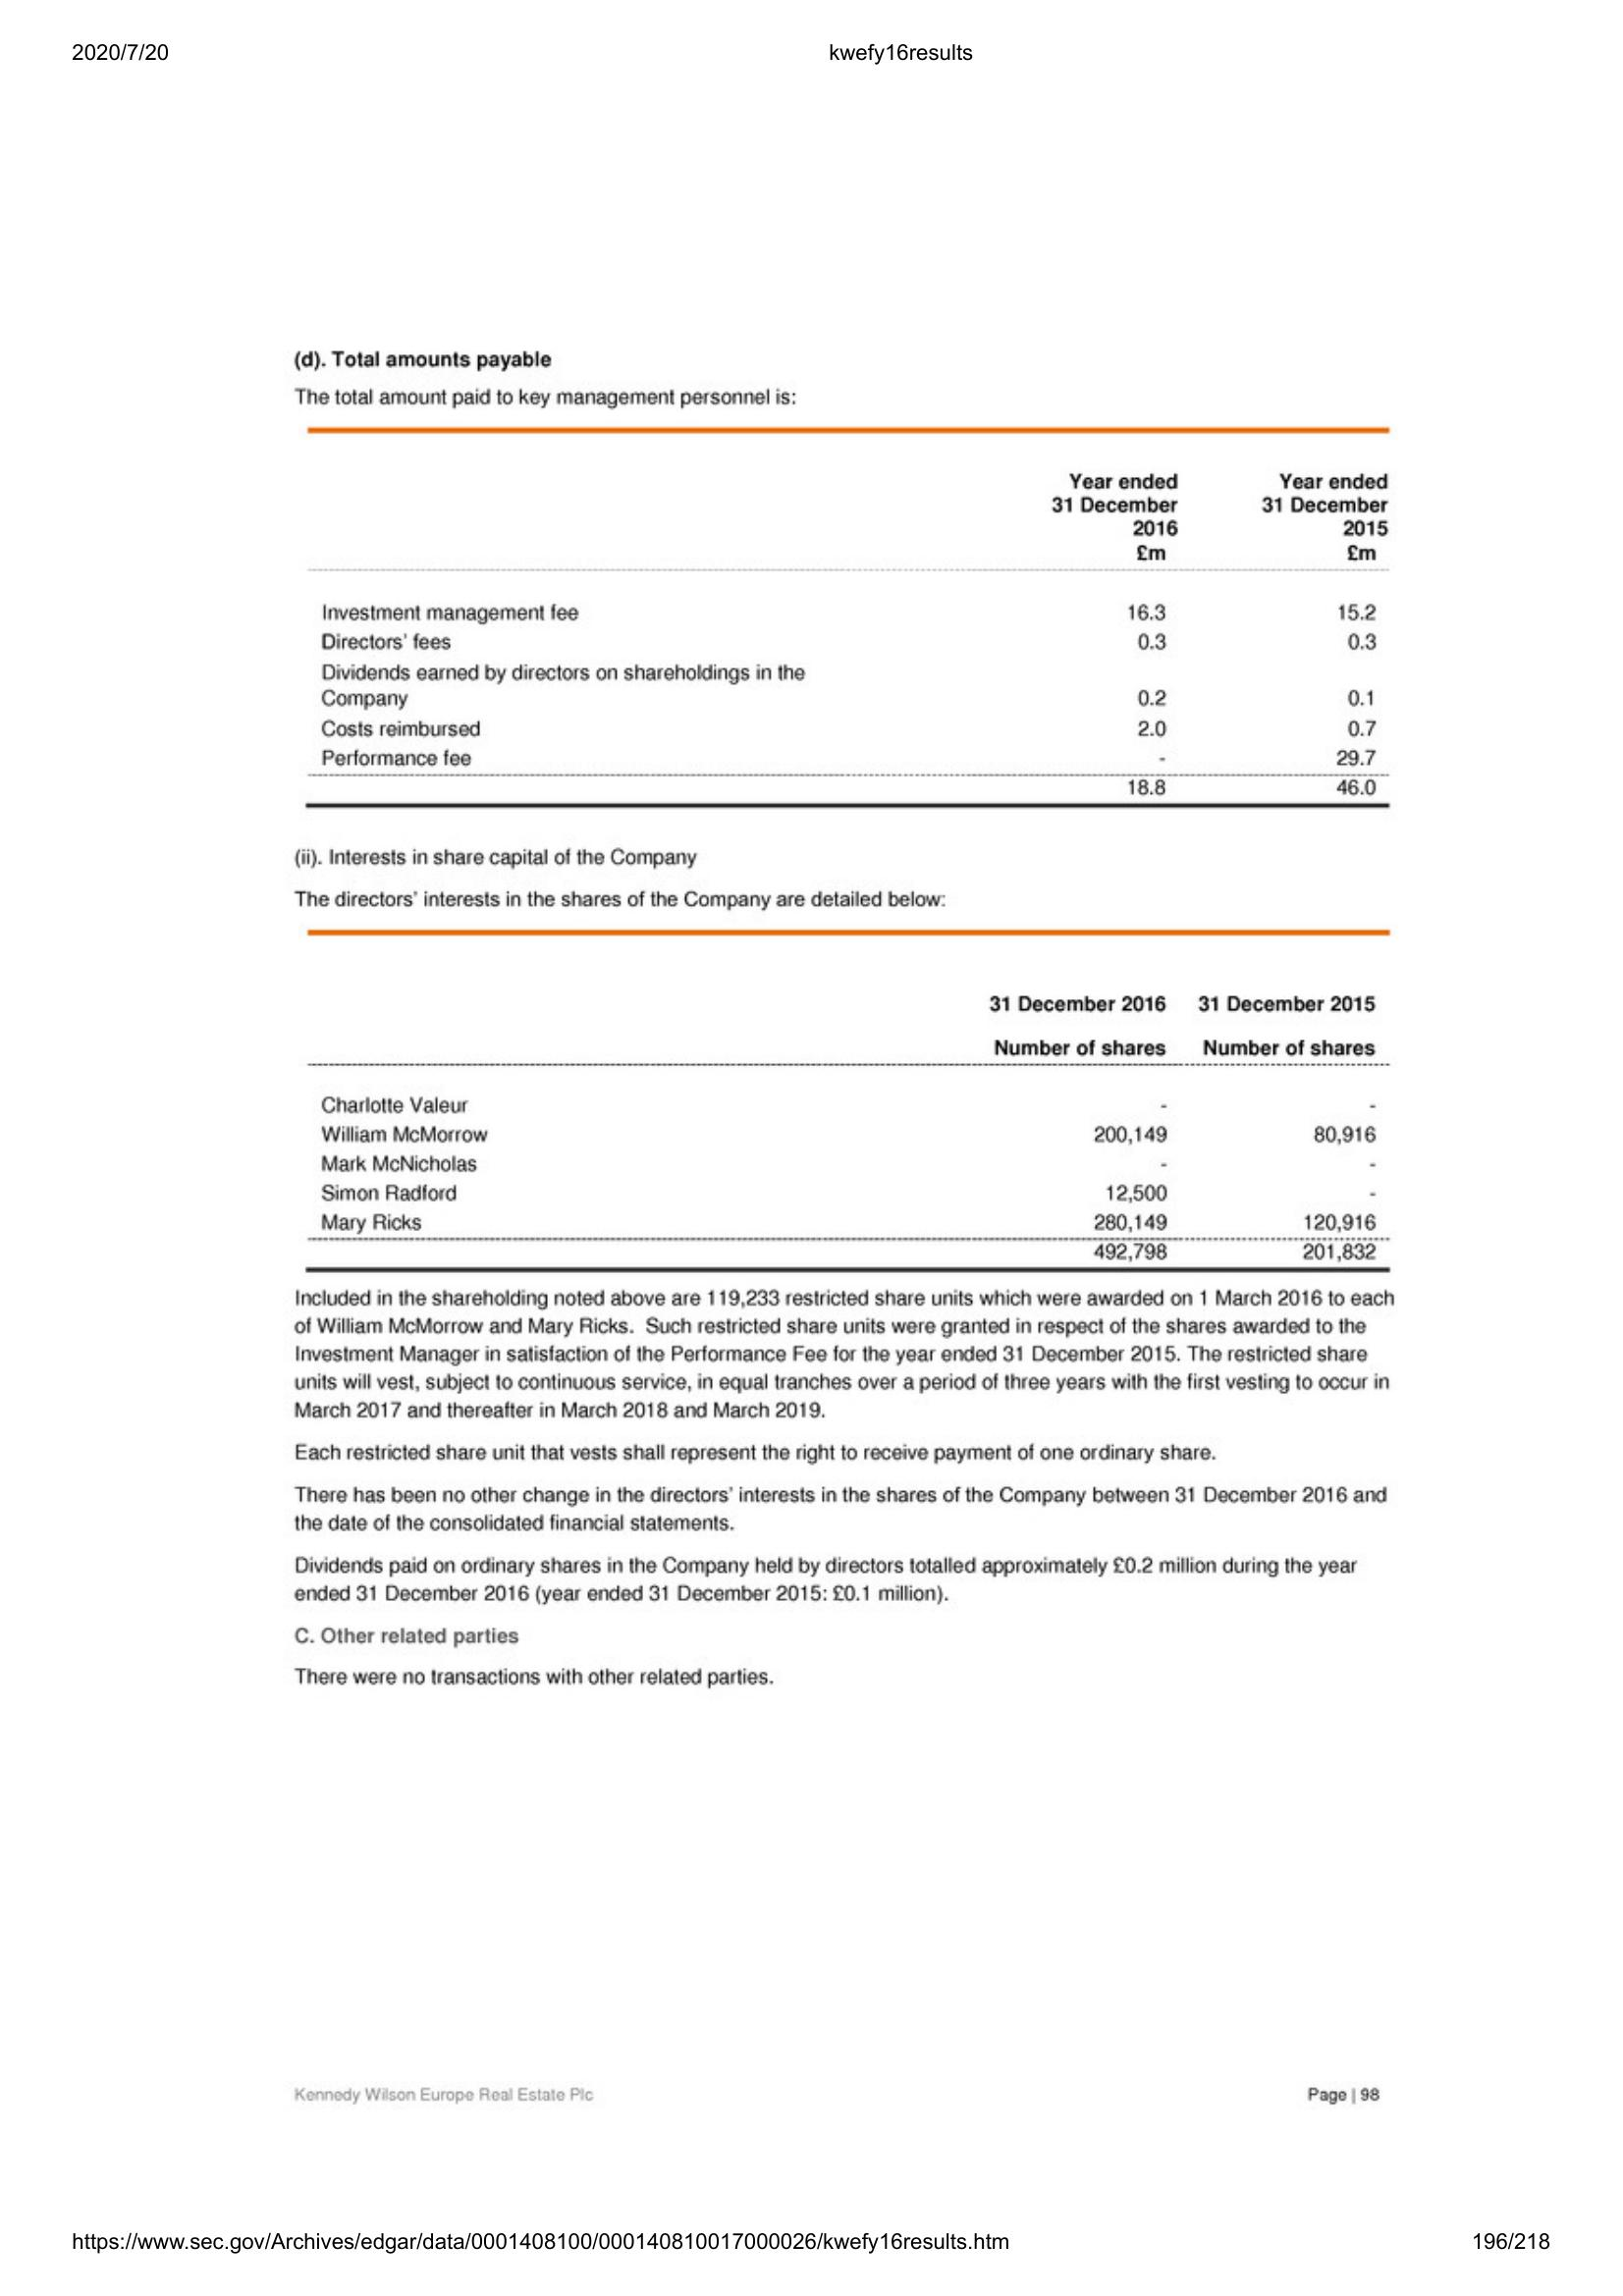table: (299, 421, 1400, 820), (302, 922, 1400, 1278)
